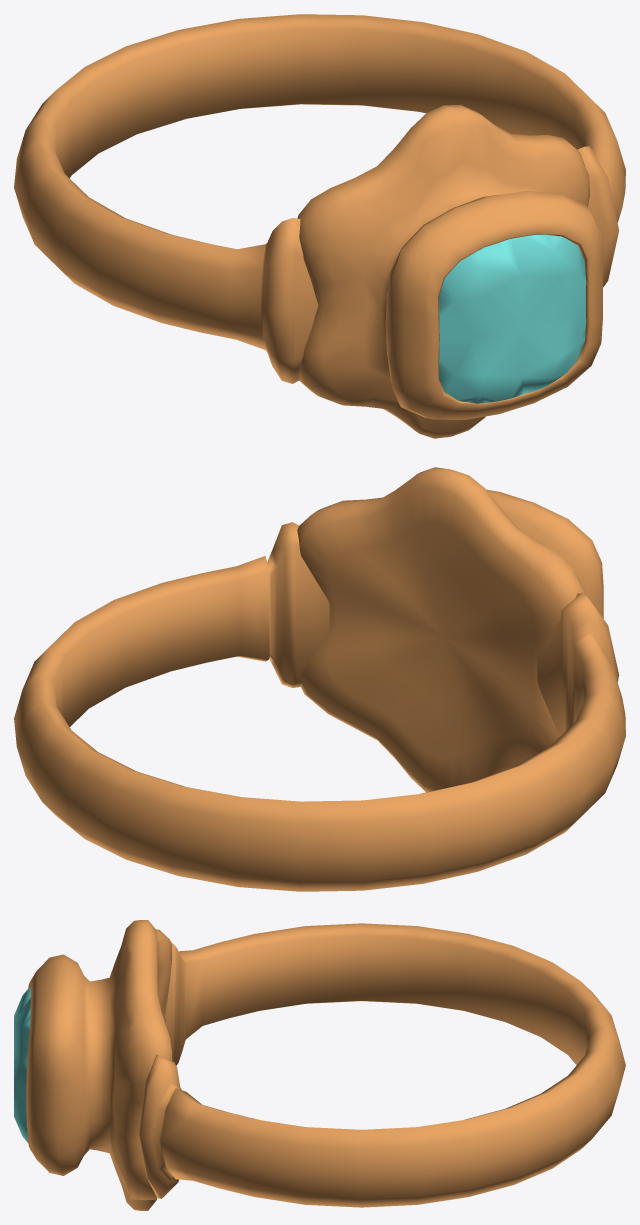
File: Ring_02.glb
3 renders of one model, top to bottom at view 1: azimuth 30°, elevation 25°; view 2: azimuth 150°, elevation 25°; view 3: azimuth 270°, elevation 25°, orthographic. The views are drawn at different scales.
Parts seen in each view (by area): view 1: Ring_1; view 2: Ring_1; view 3: Ring_1.
Boxes of the visible parts, box(x1,y1,x2,y2) form: Ring_1: box(14, 14, 625, 438); Ring_1: box(14, 467, 625, 891); Ring_1: box(14, 920, 625, 1210).
Bounding box in the file's own units: 0.6023 × 0.3562 × 0.6971.
